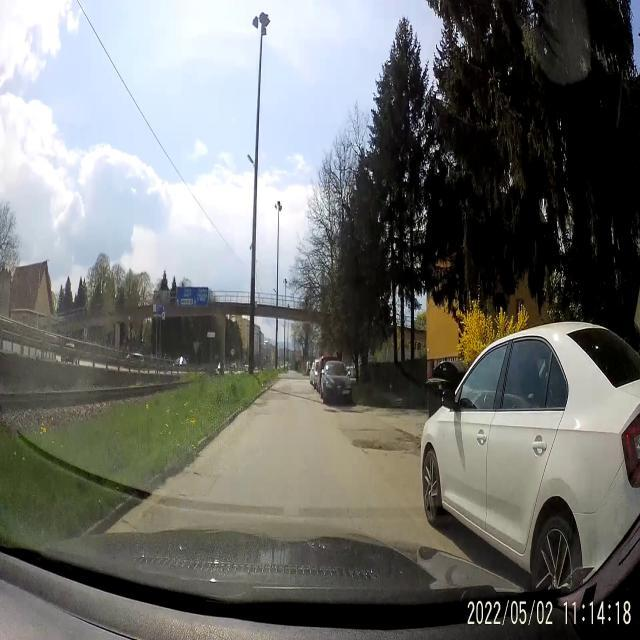Pothole: (352, 434, 398, 460), (254, 399, 268, 409)
